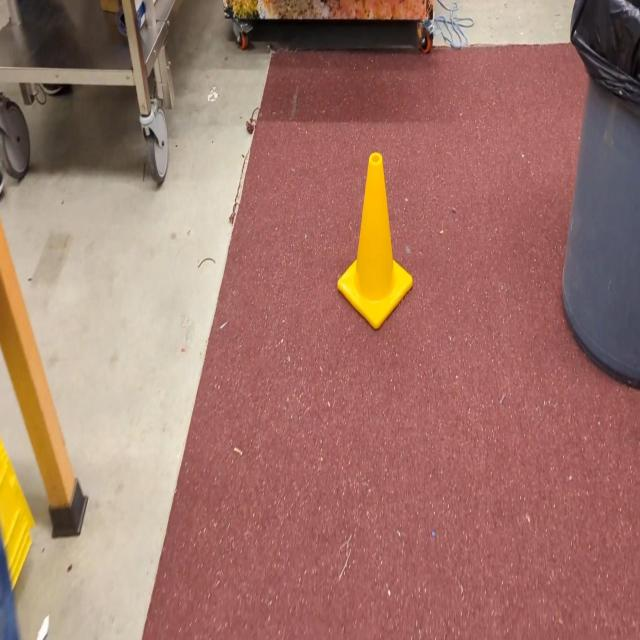frc_cone: (338, 150, 413, 333)
